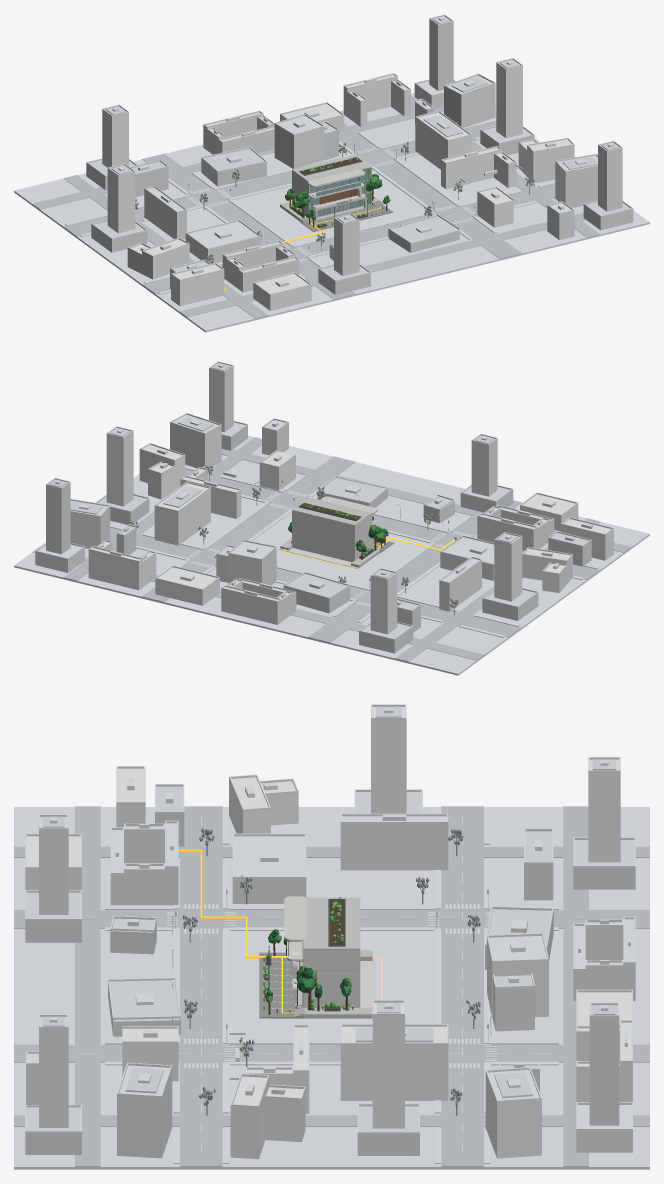
File: hospital_overview.glb
3 renders of one model, top to bottom at view 1: azimuth 30°, elevation 25°; view 2: azimuth 150°, elevation 25°; view 3: azimuth 270°, elevation 25°, orthographic. The views are drawn at different scales.
Parts seen in each view (by area): view 1: CTX_ground, CTX_Raised_Sidewalks, CTX_road_v_east, BLDG_014_TOWER, CTX_road_h_north, BLDG_019_TOWER, CTX_road_v_west, BLDG_011_WEDGE, BLDG_034_TOWER, BLDG_030_TOWER, BLDG_007_TOWER, CTX_road_h_outer_s (+28 smaller); view 2: CTX_ground, CTX_Raised_Sidewalks, CTX_road_v_east, BLDG_014_TOWER, BLDG_019_TOWER, CTX_road_h_north, BLDG_002_TOWER, BLDG_007_TOWER, BLDG_018_SLAB, Back_Exterior_Wall, BLDG_030_TOWER, CTX_road_h_south (+30 smaller); view 3: CTX_ground, CTX_road_h_south, CTX_road_h_north, CTX_Raised_Sidewalks, CTX_road_h_outer_s, BLDG_019_TOWER, BLDG_015_U, CTX_road_h_outer_n, BLDG_002_TOWER, BLDG_018_SLAB, BLDG_007_TOWER, CTX_road_v_west (+31 smaller).
Boxes of the visible parts, box(x1,y1,x2,y2) form: CTX_ground: box(14, 93, 649, 332); CTX_Raised_Sidewalks: box(65, 119, 555, 294); CTX_road_v_east: box(339, 123, 521, 258); BLDG_014_TOWER: box(91, 165, 147, 252); CTX_road_h_north: box(64, 121, 496, 236); BLDG_019_TOWER: box(480, 59, 534, 155); CTX_road_v_west: box(142, 153, 355, 299); BLDG_011_WEDGE: box(274, 115, 339, 168); BLDG_034_TOWER: box(583, 142, 633, 230); BLDG_030_TOWER: box(318, 215, 370, 294); BLDG_007_TOWER: box(414, 16, 453, 108); CTX_road_h_outer_s: box(179, 213, 585, 317); CTX_ground: box(14, 436, 649, 675); CTX_Raised_Sidewalks: box(110, 466, 598, 637); CTX_road_v_east: box(142, 456, 355, 602); BLDG_014_TOWER: box(482, 533, 538, 620); BLDG_019_TOWER: box(98, 428, 149, 524); CTX_road_h_north: box(110, 527, 520, 637); BLDG_002_TOWER: box(359, 570, 413, 653); BLDG_007_TOWER: box(35, 479, 84, 572); BLDG_018_SLAB: box(154, 483, 210, 545); Back_Exterior_Wall: box(292, 510, 354, 562); BLDG_030_TOWER: box(460, 435, 513, 512); CTX_road_h_south: box(185, 469, 599, 579); CTX_ground: box(14, 807, 649, 1169); CTX_road_h_south: box(180, 806, 222, 1166); CTX_road_h_north: box(441, 806, 483, 1166); CTX_Raised_Sidewalks: box(105, 807, 558, 1163); CTX_road_h_outer_s: box(75, 806, 100, 1166); BLDG_019_TOWER: box(357, 1002, 419, 1155); BLDG_015_U: box(340, 816, 448, 870); CTX_road_h_outer_n: box(563, 806, 588, 1166); BLDG_002_TOWER: box(573, 759, 635, 889); BLDG_018_SLAB: box(340, 1026, 448, 1100); BLDG_007_TOWER: box(576, 1005, 632, 1152); CTX_road_v_west: box(14, 910, 649, 928).
Bounding box in the file's own units: 120 × 22.14 × 89.6.
